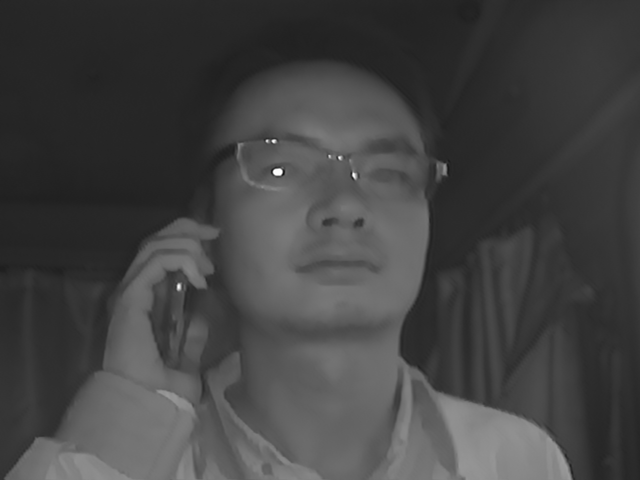hand: (97, 217, 224, 403)
